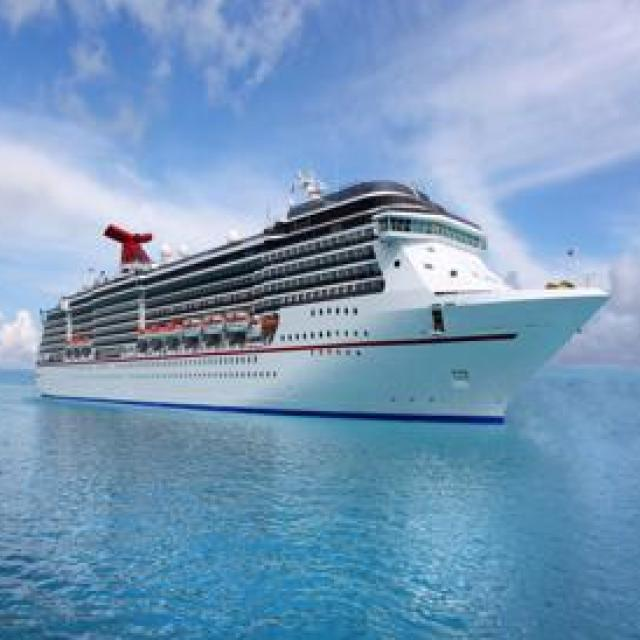passenger ship: (25, 164, 612, 424)
